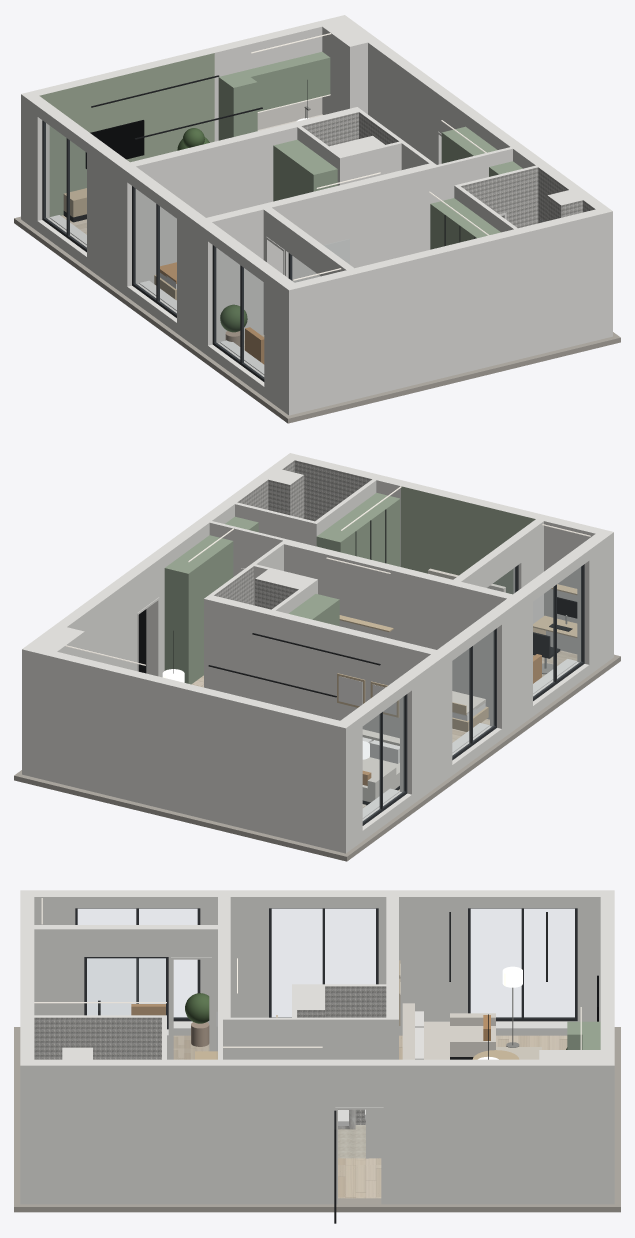
The model's file is shalfey.glb.
The picture shows the model from 3 angles, top to bottom: view 1: azimuth 30°, elevation 25°; view 2: azimuth 150°, elevation 25°; view 3: azimuth 270°, elevation 25°; orthographic projection. The views are drawn at different scales.
Size of the model in its own units: 9.15 by 3.12 by 11.9.
Materials: 30 (4 with a texture image).
